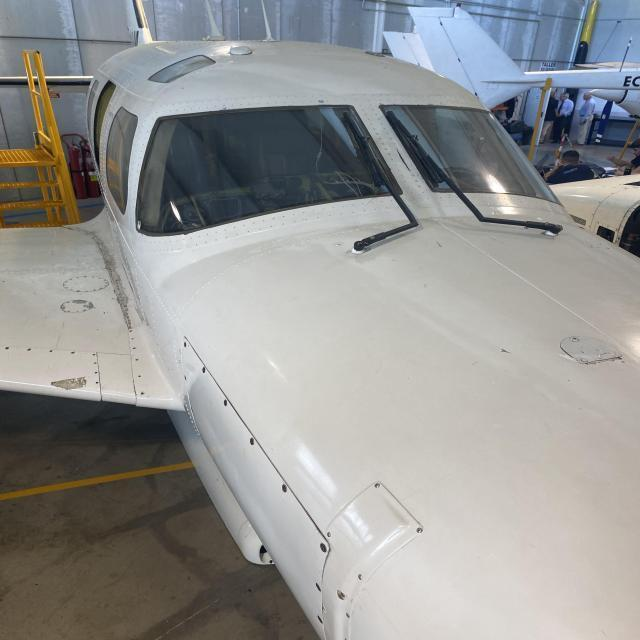Missing_Fastener: (140, 391, 146, 397), (134, 357, 140, 362), (92, 371, 99, 374), (132, 347, 138, 350), (4, 346, 10, 349), (26, 348, 32, 351), (95, 381, 99, 385), (131, 336, 135, 339), (129, 330, 134, 332)
